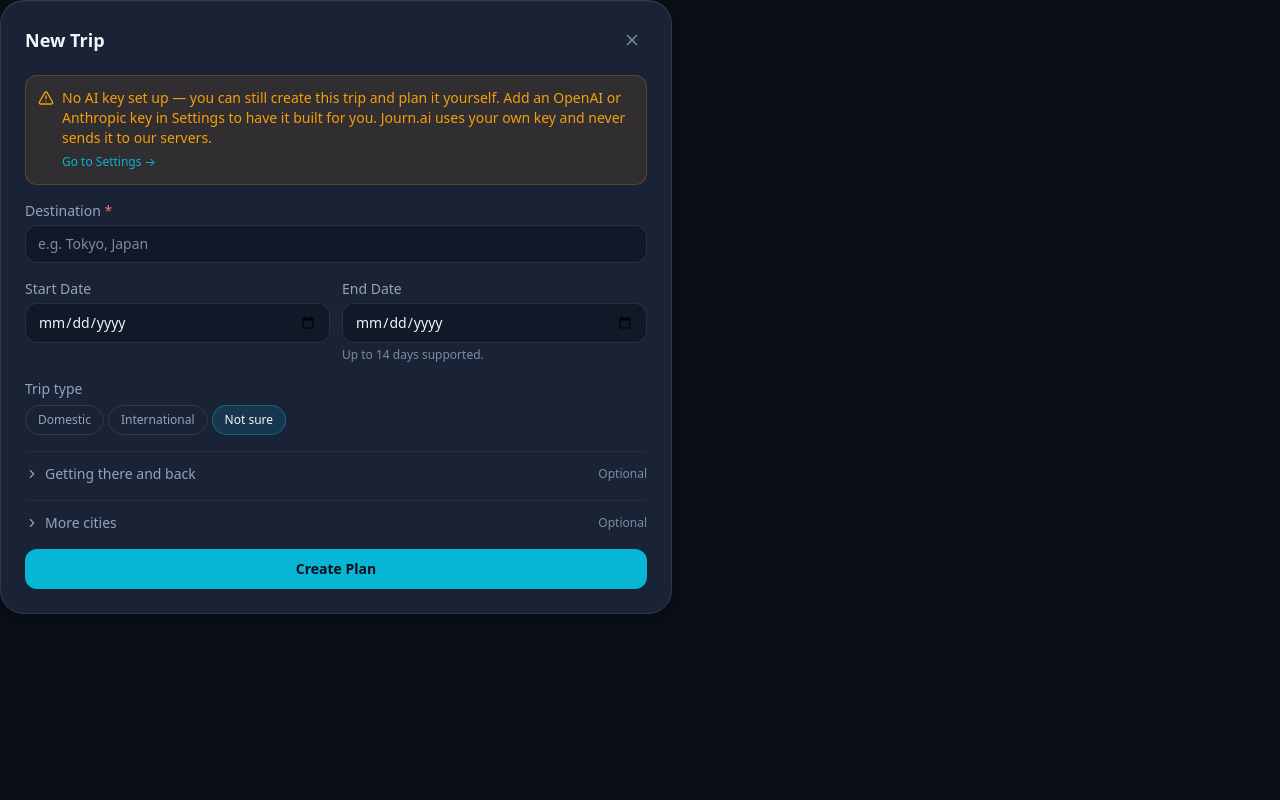
Test: arrival and departure › offers more than flying
Click the button with test id "toggle-travel": point(120, 474) [25,464,647,484]
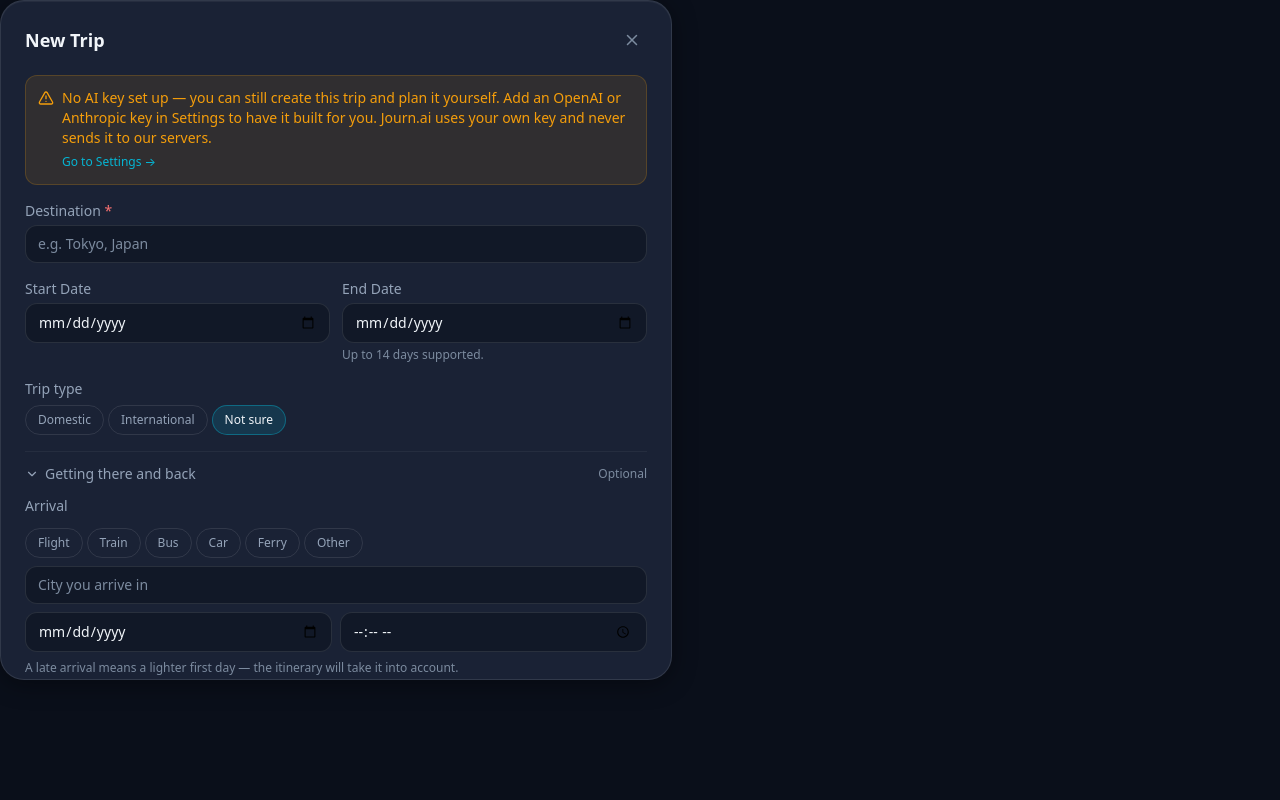
Result: the button with test id "arrival-mode-train" is shown at [87,528,141,558]
